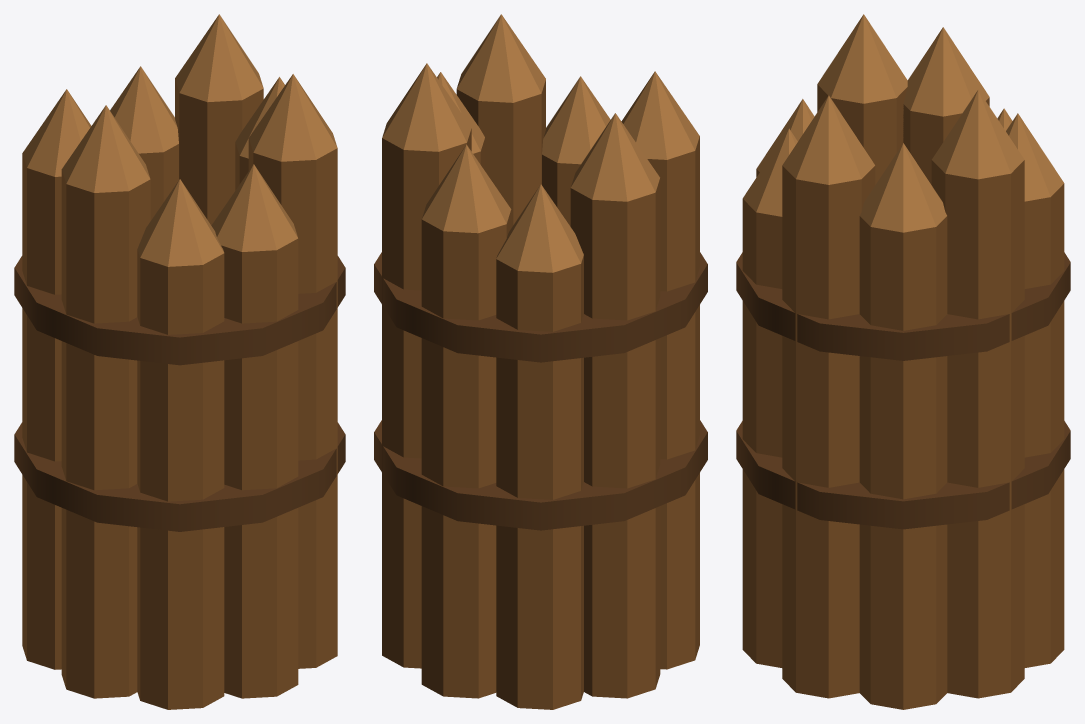
Rendered from naroznik_etap1.glb.
3 views of the same model, side by side, from view 1: azimuth 30°, elevation 25°; view 2: azimuth 150°, elevation 25°; view 3: azimuth 270°, elevation 25° (orthographic).
Visible parts, largest first — view 1: naroznik_etap1; view 2: naroznik_etap1; view 3: naroznik_etap1.
Part boxes in pixels (x1,y1,x2,y2): naroznik_etap1: (14, 14, 345, 709); naroznik_etap1: (374, 14, 707, 709); naroznik_etap1: (736, 14, 1070, 709).
Size of the model in its own units: 2.16 by 4.2 by 2.16.
